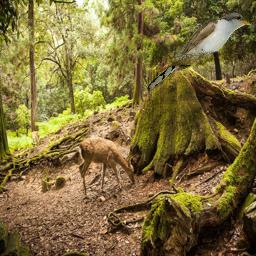Cuckoo: (145, 12, 255, 92)
